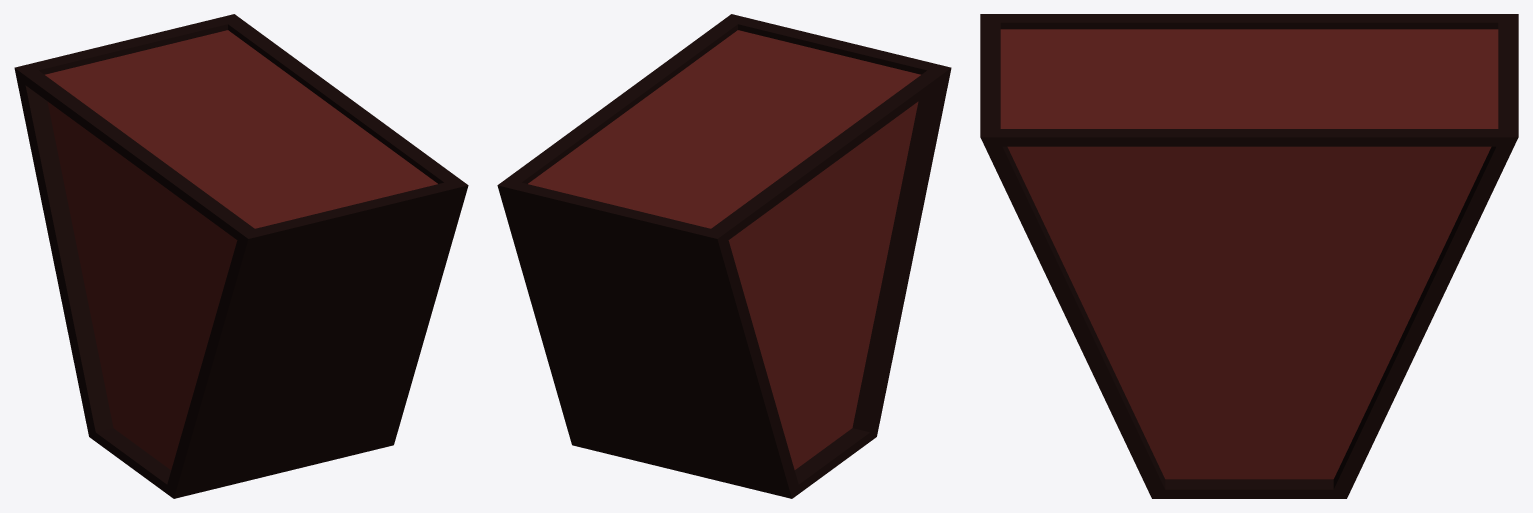
Rendered from table.fbx.
3 renders of one model, left to right at view 1: azimuth 30°, elevation 25°; view 2: azimuth 150°, elevation 25°; view 3: azimuth 270°, elevation 25°, orthographic. The views are drawn at different scales.
Visible parts, largest first — view 1: Cube; view 2: Cube; view 3: Cube.
Part boxes in pixels (x1=…): Cube: x1=14, y1=14, x2=468, y2=498; Cube: x1=497, y1=14, x2=951, y2=498; Cube: x1=980, y1=14, x2=1518, y2=498.
Size of the model in its own units: 200 by 273 by 368.
